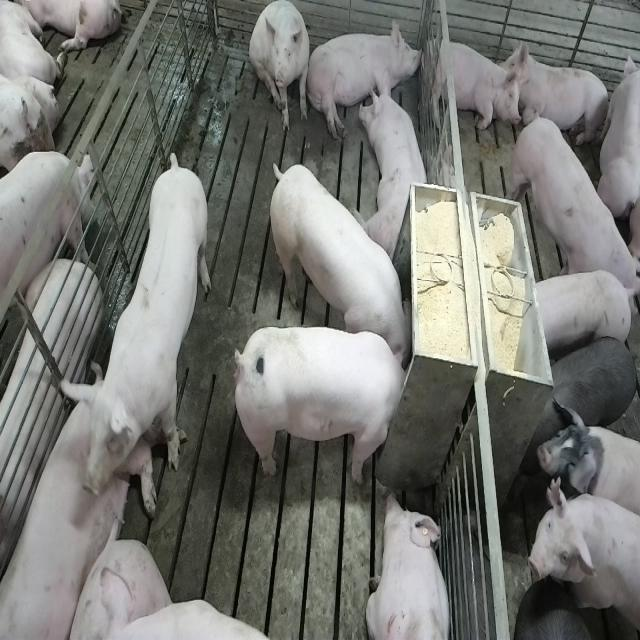Feeding: (265, 160, 412, 365), (239, 324, 416, 486)
Lateral_lying: (306, 16, 424, 142)
Sitting: (250, 2, 312, 134)
Standing: (55, 157, 211, 491), (505, 115, 636, 303), (525, 474, 638, 640), (0, 153, 94, 347), (524, 336, 637, 470), (537, 399, 640, 539), (530, 268, 633, 349)
Sternal_lying: (0, 383, 152, 634), (362, 69, 433, 259), (365, 490, 453, 640), (508, 41, 612, 153), (424, 34, 518, 135)
